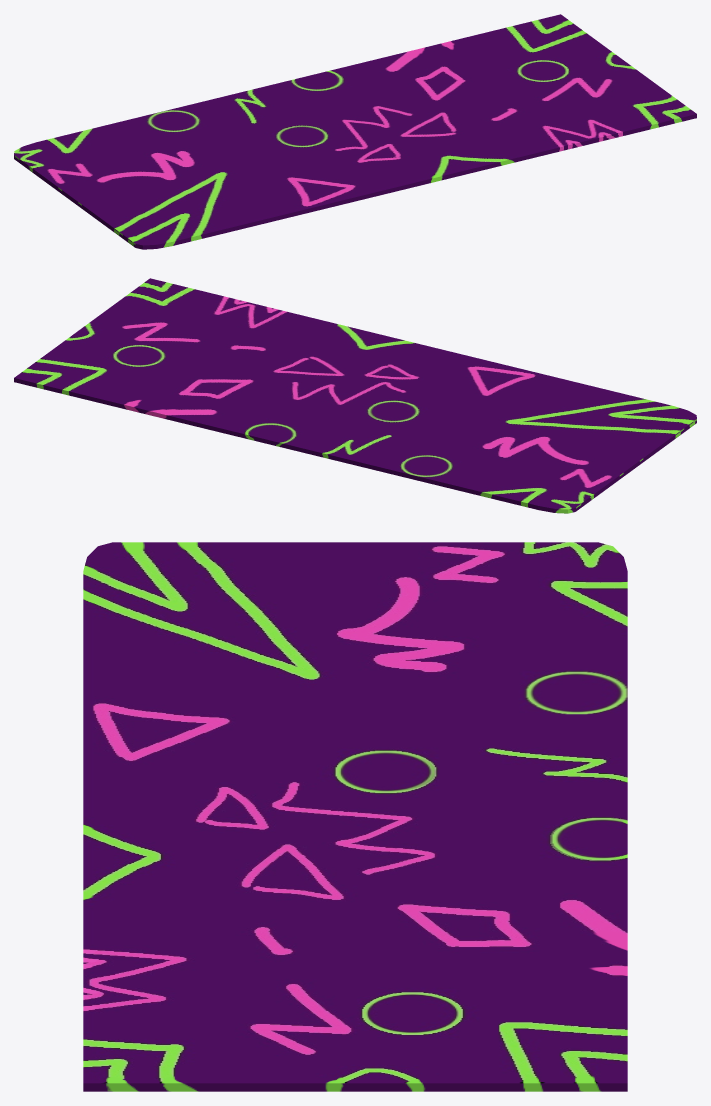
File: rug.fbx
The picture shows the model from 3 angles, top to bottom: view 1: azimuth 30°, elevation 25°; view 2: azimuth 150°, elevation 25°; view 3: azimuth 270°, elevation 25°; orthographic projection. The views are drawn at different scales.
Visible parts, largest first — view 1: rug; view 2: rug; view 3: rug.
Part boxes in pixels (x1=…): rug: x1=14, y1=14, x2=696, y2=249; rug: x1=14, y1=278, x2=696, y2=513; rug: x1=83, y1=542, x2=627, y2=1091.
Size of the model in its own units: 9.88 by 4.2 by 0.0714.
1 material, 1 textured.
